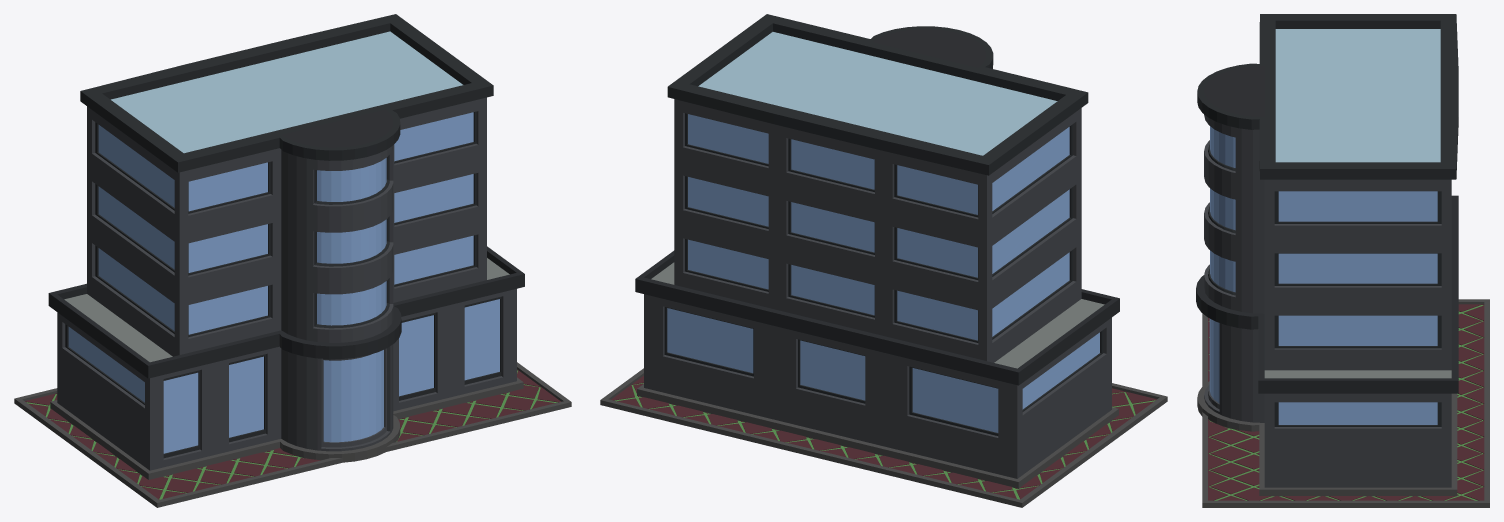
Rendered from SM_buisness_building_01_B.gltf.
The picture shows the model from 3 angles, left to right: view 1: azimuth 30°, elevation 25°; view 2: azimuth 150°, elevation 25°; view 3: azimuth 270°, elevation 25°; orthographic projection.
Parts seen in each view (by area): view 1: SM_buisness_building_01_B; view 2: SM_buisness_building_01_B; view 3: SM_buisness_building_01_B.
Boxes of the visible parts, bbox=[...] form: SM_buisness_building_01_B: bbox=[14, 14, 571, 507]; SM_buisness_building_01_B: bbox=[600, 14, 1167, 507]; SM_buisness_building_01_B: bbox=[1196, 14, 1489, 507].
Bounding box in the file's own units: 5.01 × 3.61 × 3.05.
